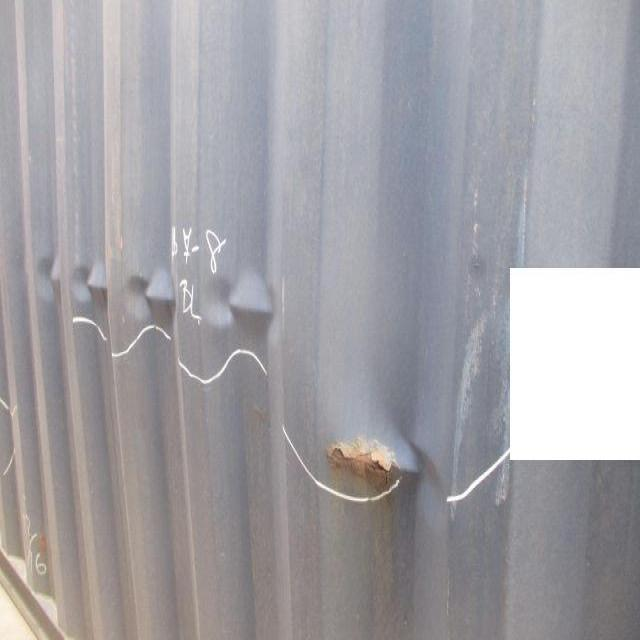Dent: (21, 243, 323, 368), (279, 399, 462, 537)
